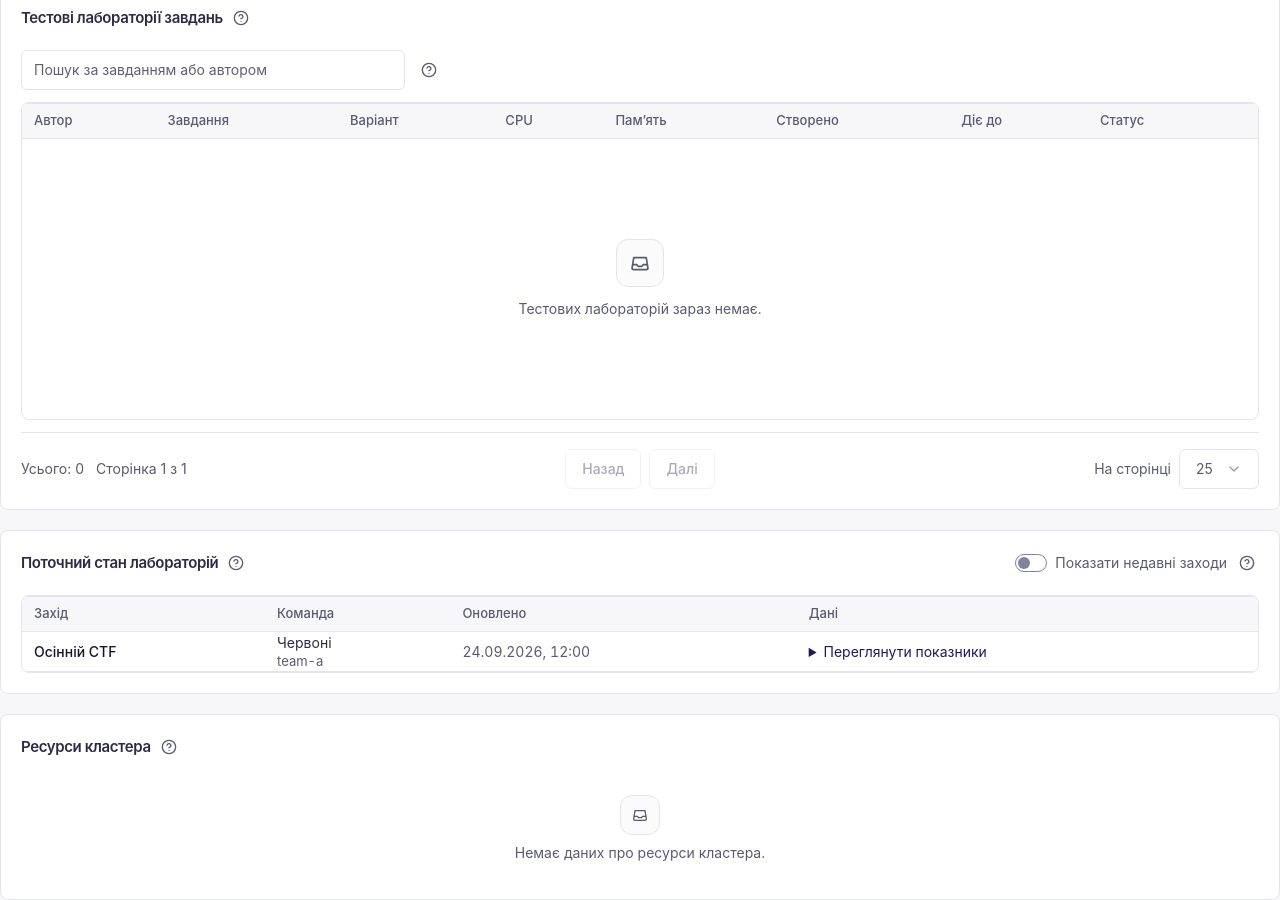
Test: infrastructure page › shows resource, VPN traffic, access-rule, and deletion facts without exposing secret fields
(page scrolled)
Click the heading "Переглянути показники": (905, 651) [824, 642, 987, 660]
(page scrolled)
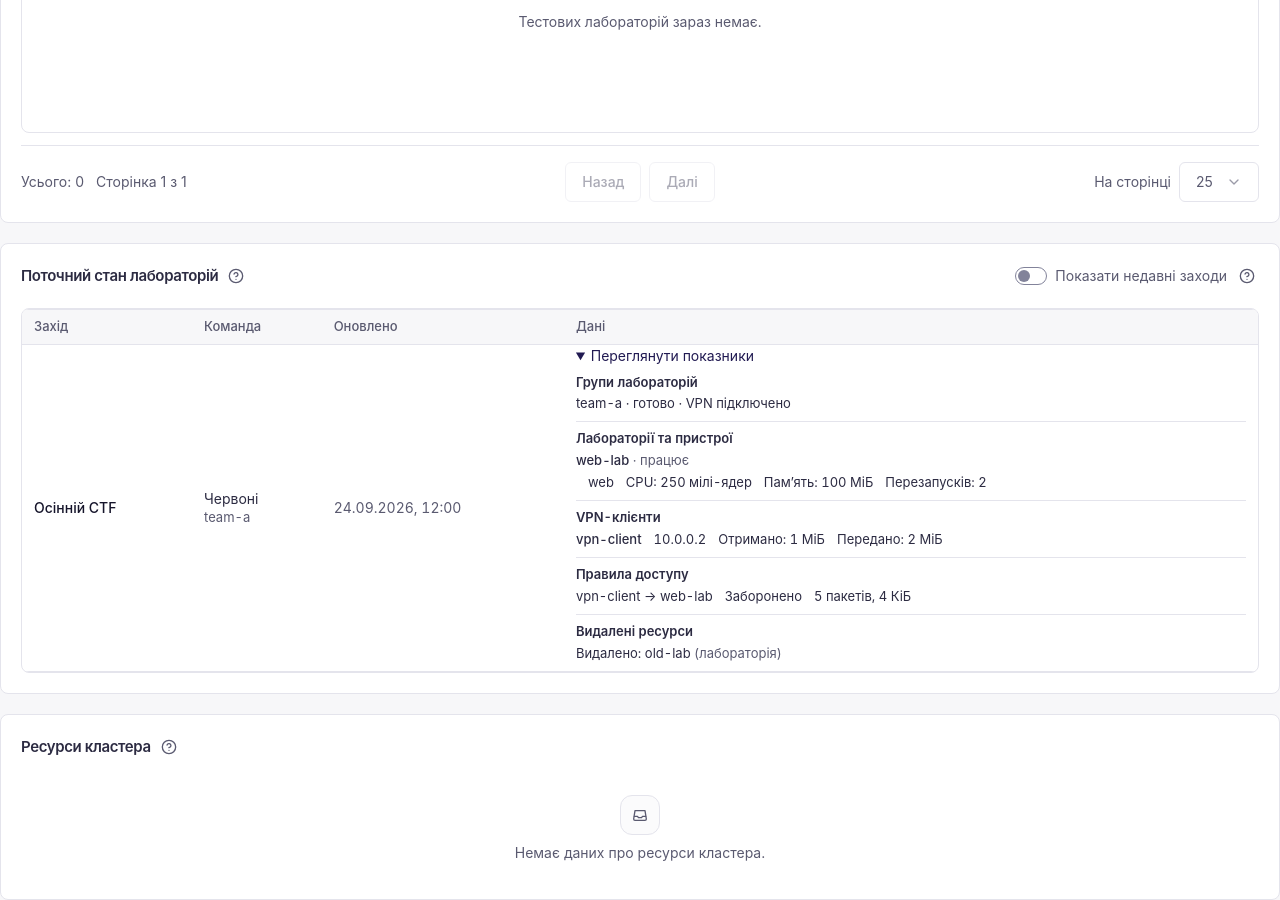
Now the text "web-lab" is shown, box [576, 452, 629, 468]
Now the text "web" is shown, box [588, 474, 614, 492]
Now the text "CPU: 250 мілі-ядер" is shown, box [626, 474, 752, 492]
